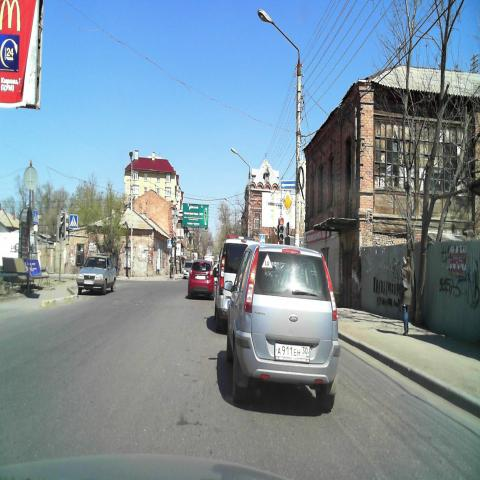5_7_2: (280, 181, 296, 190)
